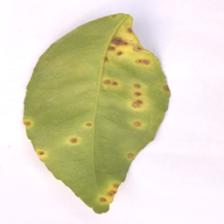canker: (74, 14, 188, 184)
